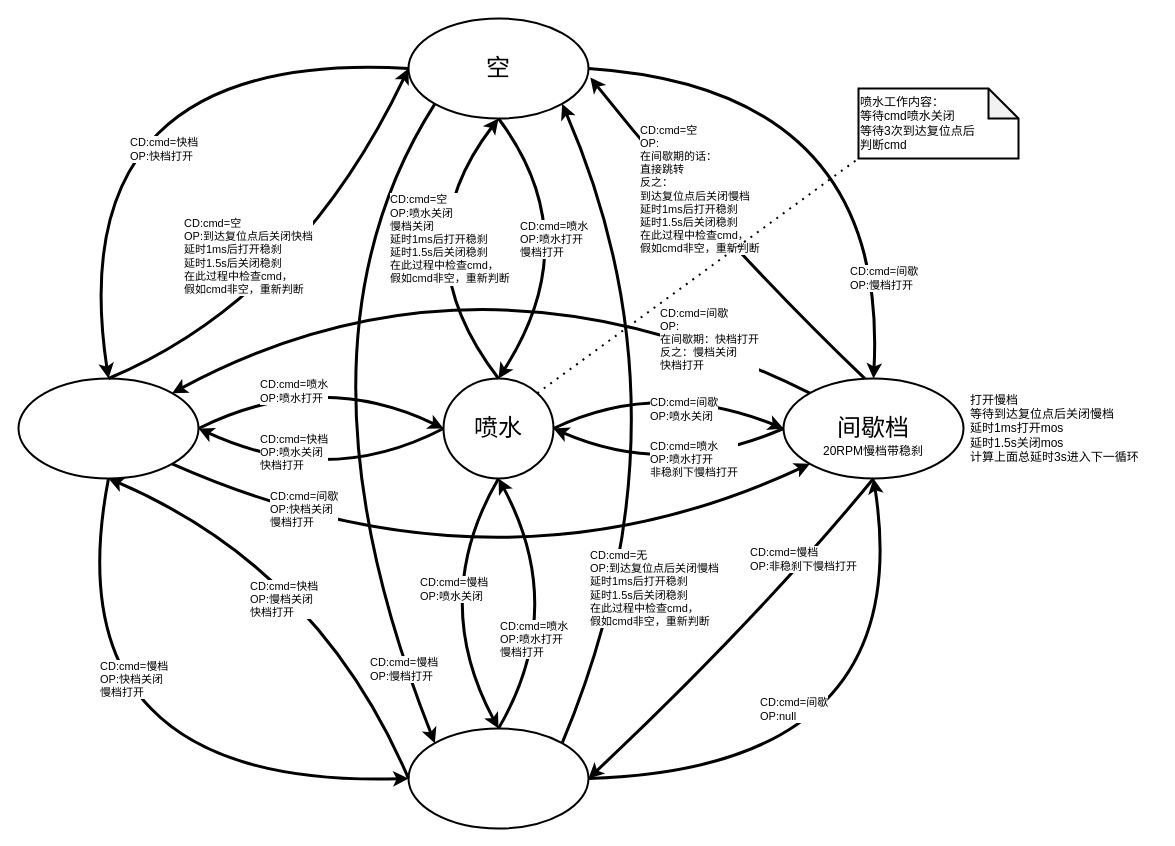
Some shapes in this 1175 by 846 pixel diagram are drawn without their labels. Here are the shapes that lost their labels. From the top down, the centre of each, then its label:
At point 108,428: "快档".
At point 498,778: "慢档".
